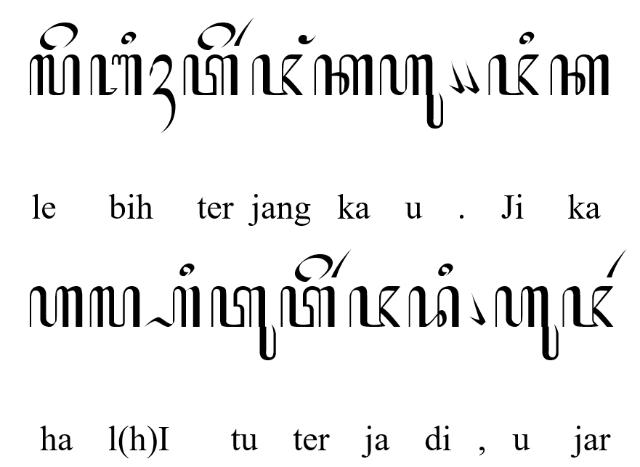_h: (144, 285, 200, 327), (148, 53, 176, 133)
_r1: (606, 248, 628, 279), (233, 16, 254, 46), (332, 248, 352, 278)
b: (90, 54, 142, 96)
d: (408, 286, 460, 328)
e: (40, 22, 78, 50), (198, 22, 236, 50)
h: (28, 286, 84, 328)
hu: (494, 284, 560, 362), (380, 54, 444, 130)
i: (121, 31, 137, 45), (179, 262, 195, 276), (438, 263, 454, 277), (520, 31, 534, 46)
j: (488, 52, 540, 96), (562, 284, 614, 328), (250, 54, 304, 96), (348, 286, 400, 328)
k: (314, 54, 374, 96), (550, 54, 610, 96)
kom: (447, 58, 465, 94), (462, 58, 480, 94), (468, 290, 486, 325)
l: (28, 54, 82, 96), (89, 286, 141, 328)
ng: (298, 34, 318, 45)
t: (182, 54, 238, 96), (280, 286, 336, 328), (294, 254, 332, 282)
tu: (212, 286, 276, 360)
